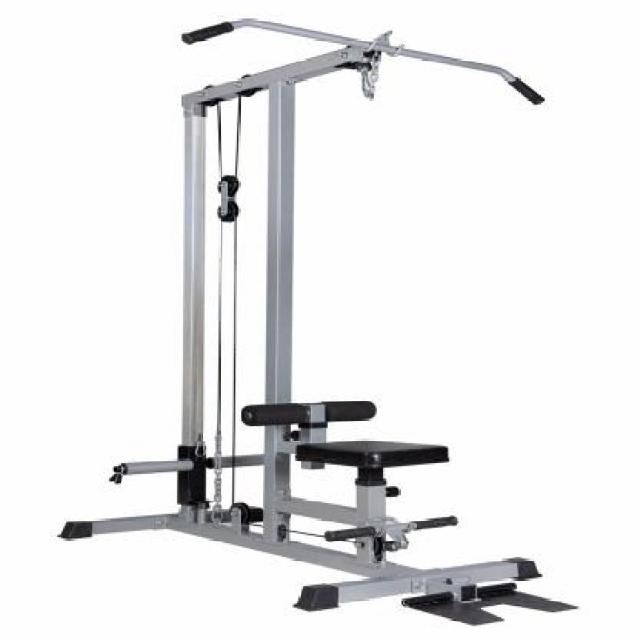Lat Pull Down: (21, 5, 597, 629)
